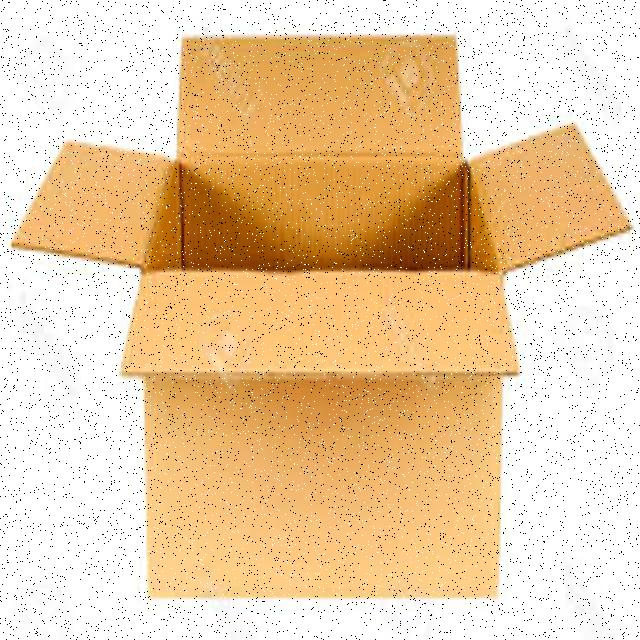defect: (1, 32, 631, 603)
